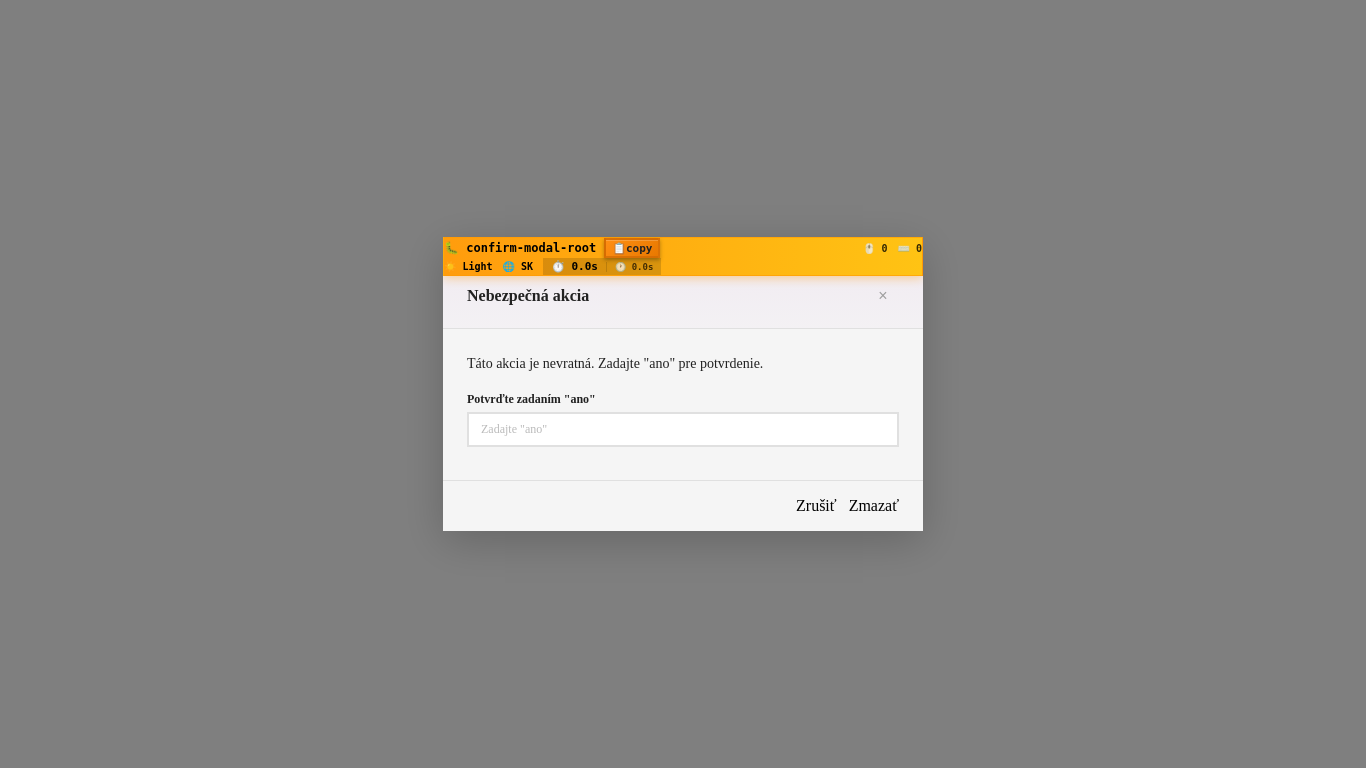
ConfirmModal › danger mode shows error when keyword empty and button clicked
Click the button "Zmazať": (874,506) x1=849 y1=497 x2=899 y2=515
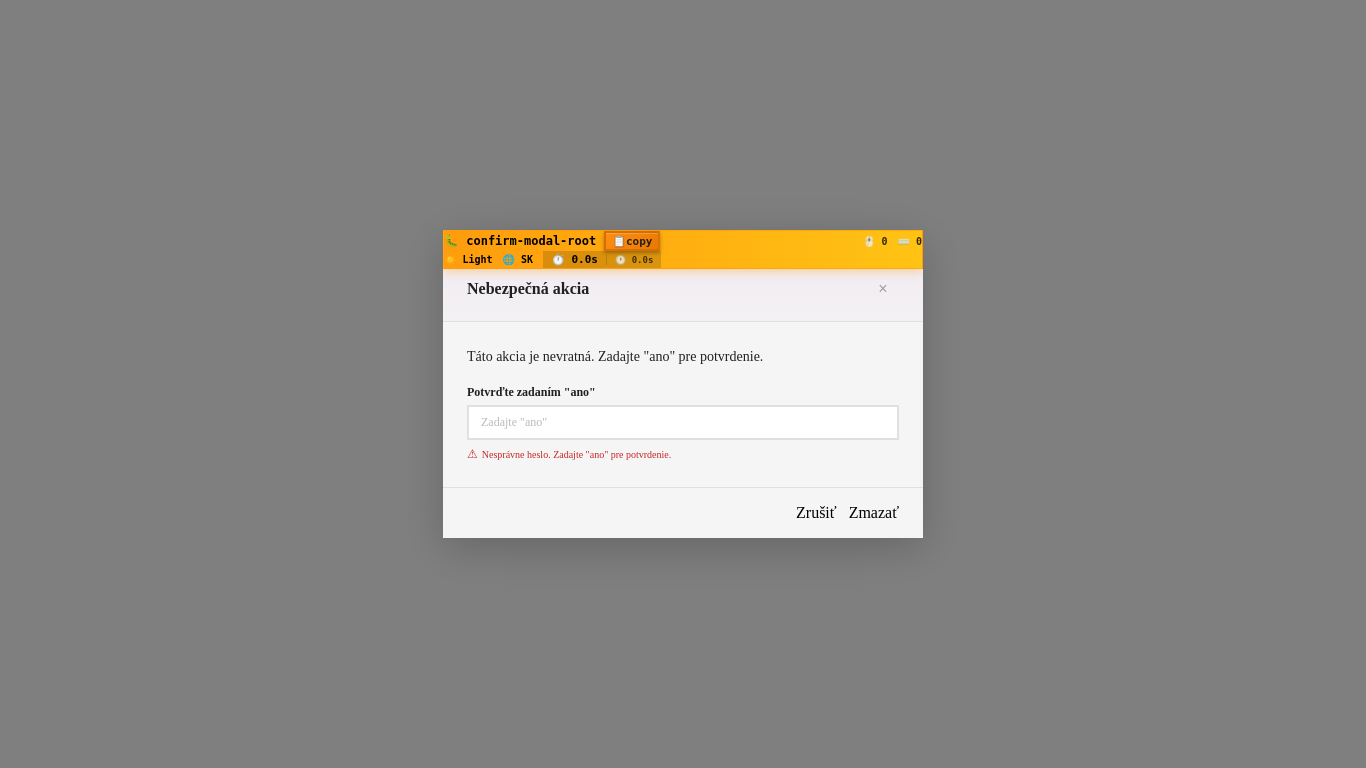
Check: the text "⚠ Nesprávne heslo. Zadajte \"ano\" pre potvrdenie." is shown, box x1=467 y1=447 x2=671 y2=461
